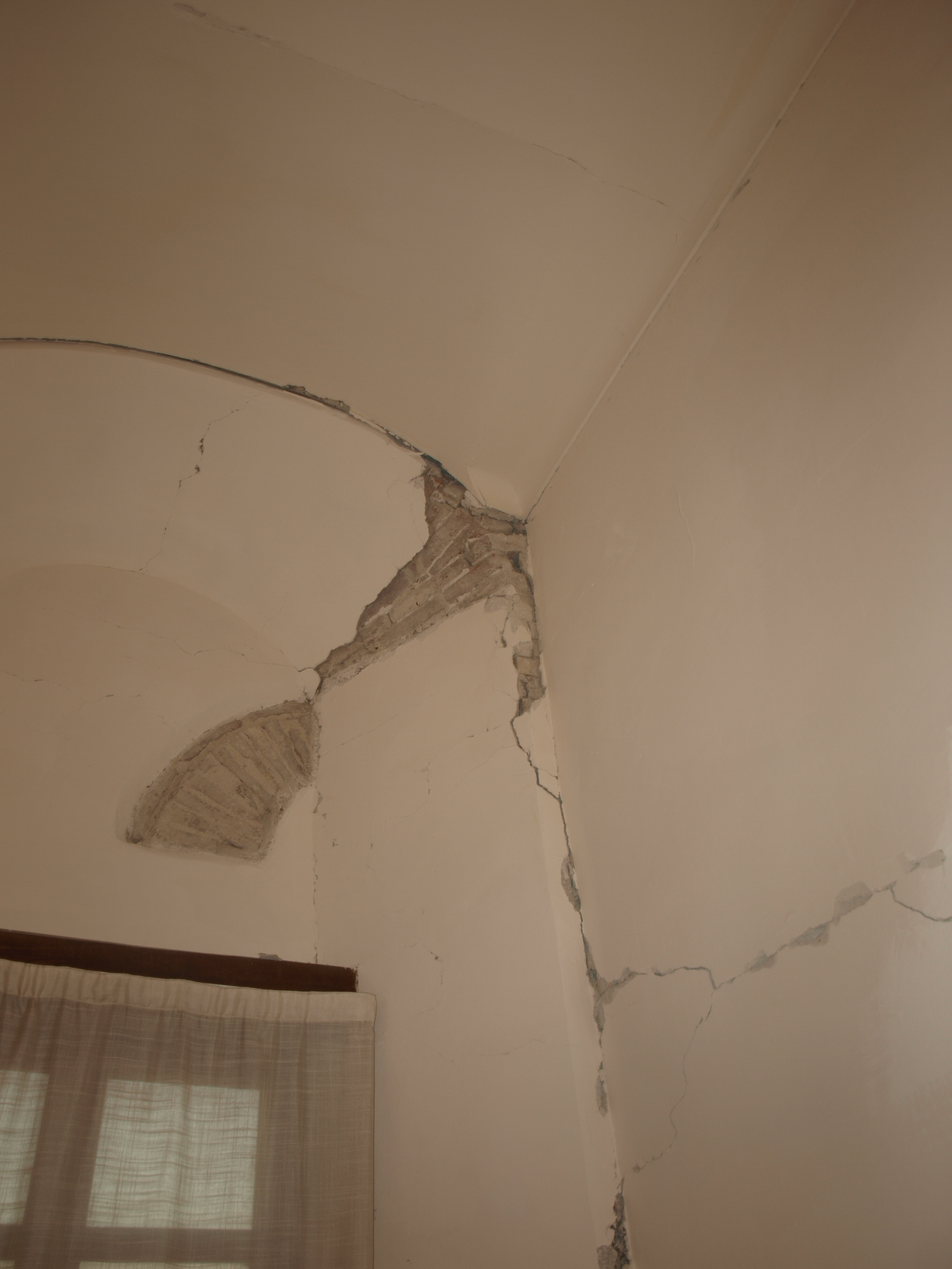Crack: (78, 351, 943, 1202)
